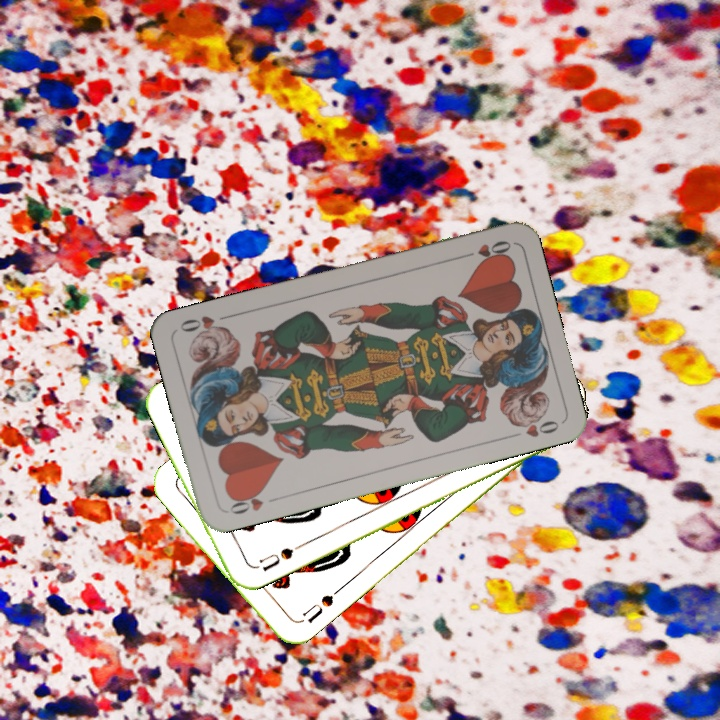HO: (456, 236, 514, 264), (223, 485, 267, 517)
SU: (248, 543, 296, 574), (298, 590, 336, 626)
